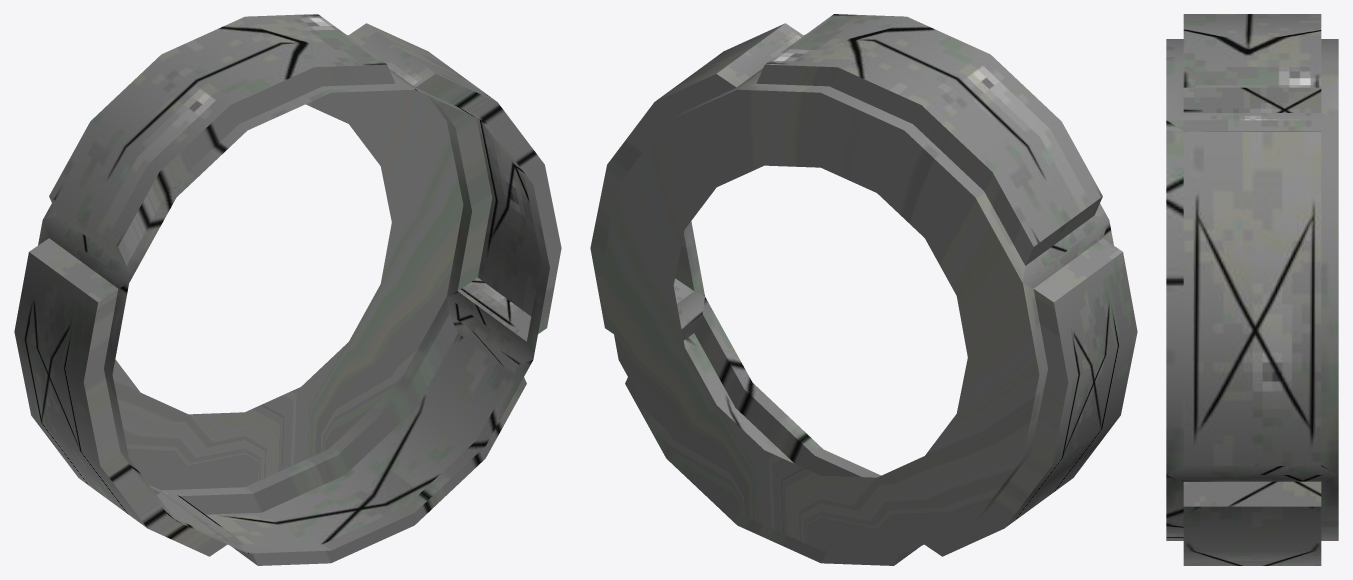
File: cypher3.glb
3 views of the same model, side by side, from view 1: azimuth 30°, elevation 25°; view 2: azimuth 150°, elevation 25°; view 3: azimuth 270°, elevation 25° (orthographic).
Parts seen in each view (by area): view 1: cypher3; view 2: cypher3; view 3: cypher3.
Part boxes in pixels (left/top/right/bottom): cypher3: left=14, top=14, right=561, bottom=565; cypher3: left=590, top=14, right=1137, bottom=565; cypher3: left=1166, top=14, right=1338, bottom=565.
Size of the model in its own units: 0.3068 by 0.3068 by 0.0962.
Materials: 1 (1 with a texture image).
